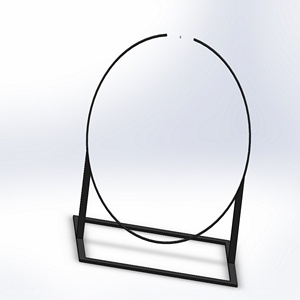circle: (72, 30, 253, 287)
